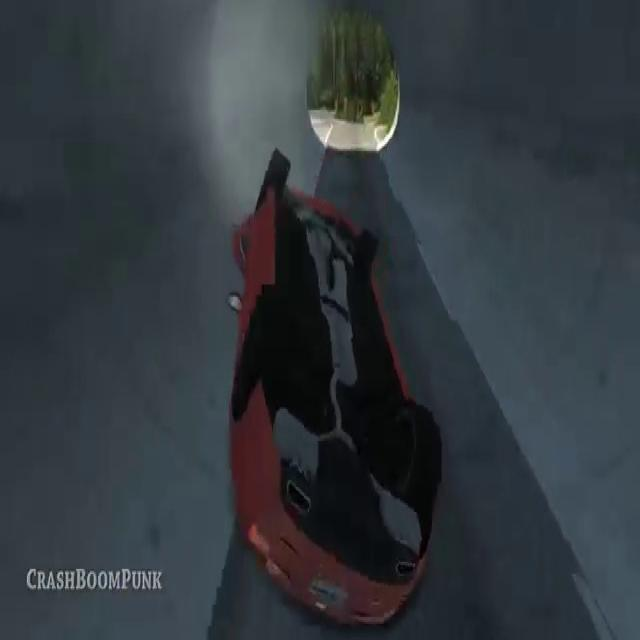severe: (222, 144, 446, 632)
